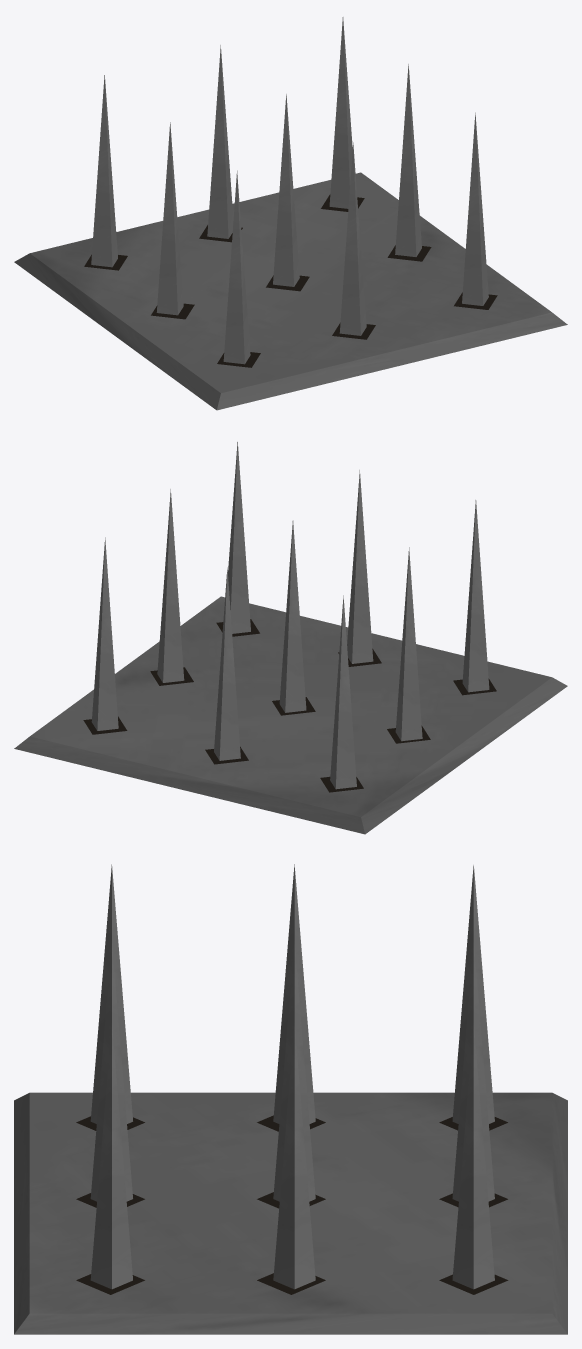
Rendered from Spike_Floor.fbx.
The picture shows the model from 3 angles, top to bottom: view 1: azimuth 30°, elevation 25°; view 2: azimuth 150°, elevation 25°; view 3: azimuth 270°, elevation 25°; orthographic projection. The views are drawn at different scales.
Visible parts, largest first — view 1: Spike_Plate, Spikes; view 2: Spike_Plate, Spikes; view 3: Spike_Plate, Spikes.
Part boxes in pixels (box(x1,y1,x2,y2)): Spike_Plate: box(14, 172, 567, 410); Spikes: box(91, 17, 488, 364); Spike_Plate: box(14, 596, 567, 834); Spikes: box(91, 442, 489, 789); Spike_Plate: box(14, 1092, 567, 1334); Spikes: box(90, 864, 494, 1289).
Size of the model in its own units: 2.02 by 1.11 by 2.02.
